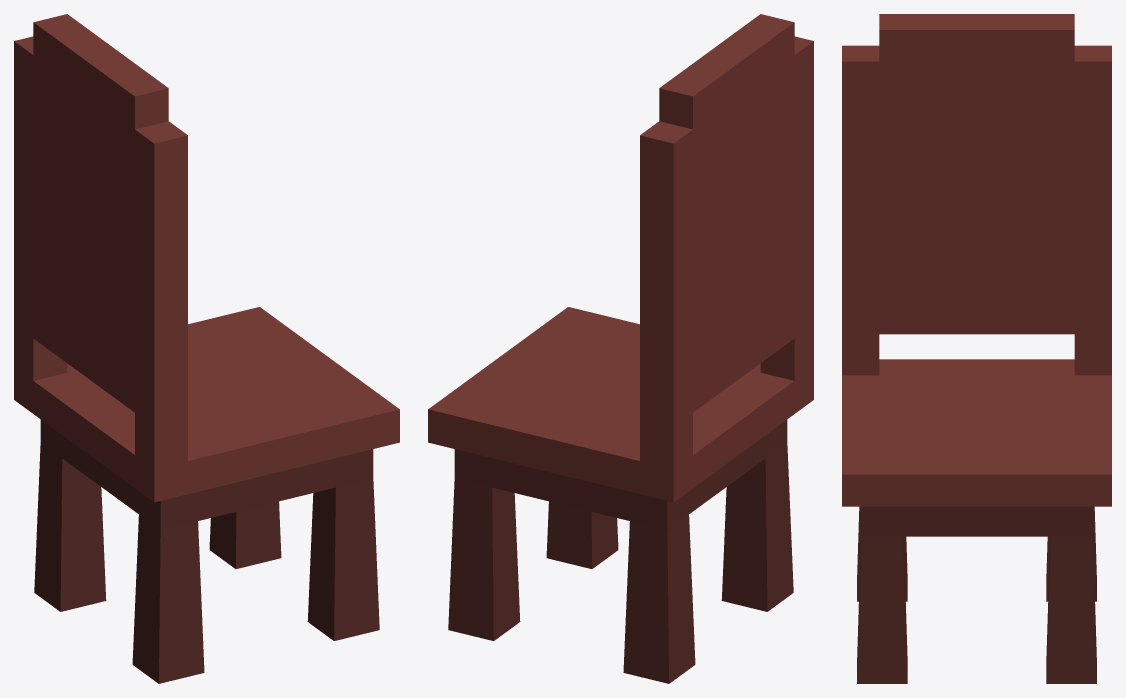
File: Chair.glb
3 views of the same model, side by side, from view 1: azimuth 30°, elevation 25°; view 2: azimuth 150°, elevation 25°; view 3: azimuth 270°, elevation 25° (orthographic). The views are drawn at different scales.
Parts seen in each view (by area): view 1: Chair; view 2: Chair; view 3: Chair.
Boxes of the visible parts, x1,y1,x2,y2 form: Chair: (14,14,399,683); Chair: (428,14,813,683); Chair: (842,14,1111,683).
Bounding box in the file's own units: 0.4378 × 0.9913 × 0.4326.
